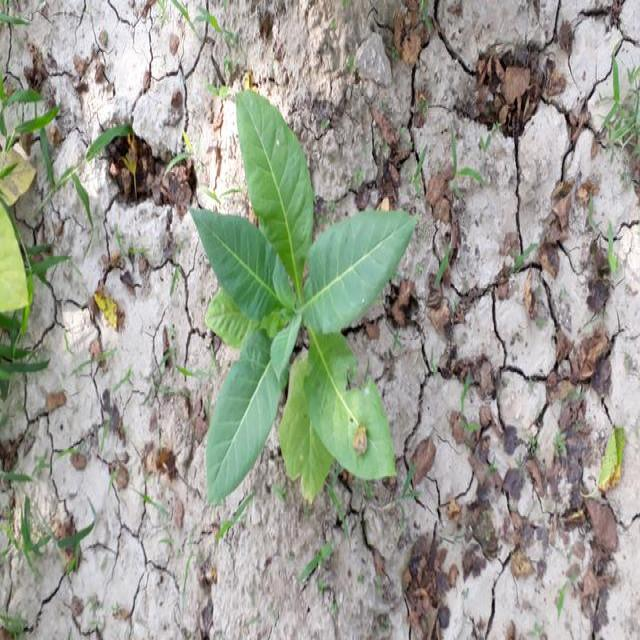crop: (195, 86, 402, 503)
